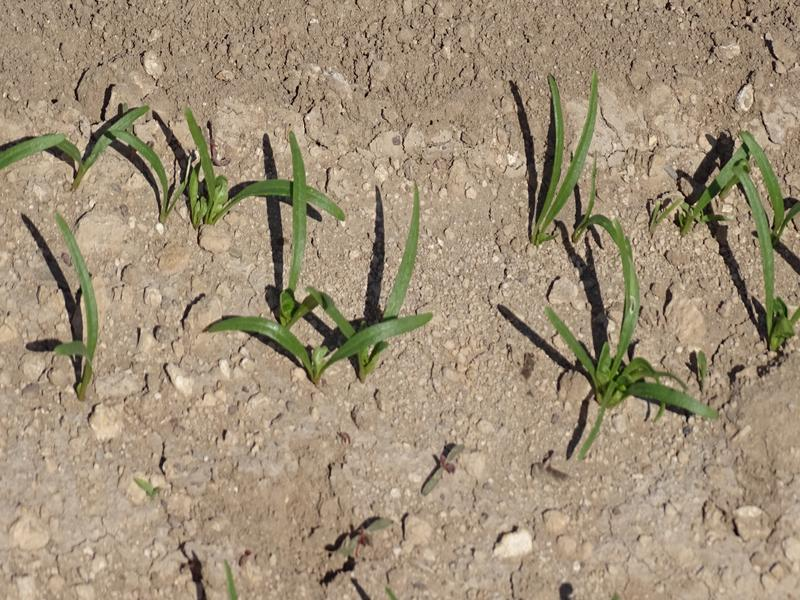Espinaca: (216, 197, 426, 368), (546, 258, 720, 436), (65, 125, 341, 216), (533, 72, 614, 244), (674, 130, 795, 230), (39, 216, 103, 387), (761, 238, 791, 349)
